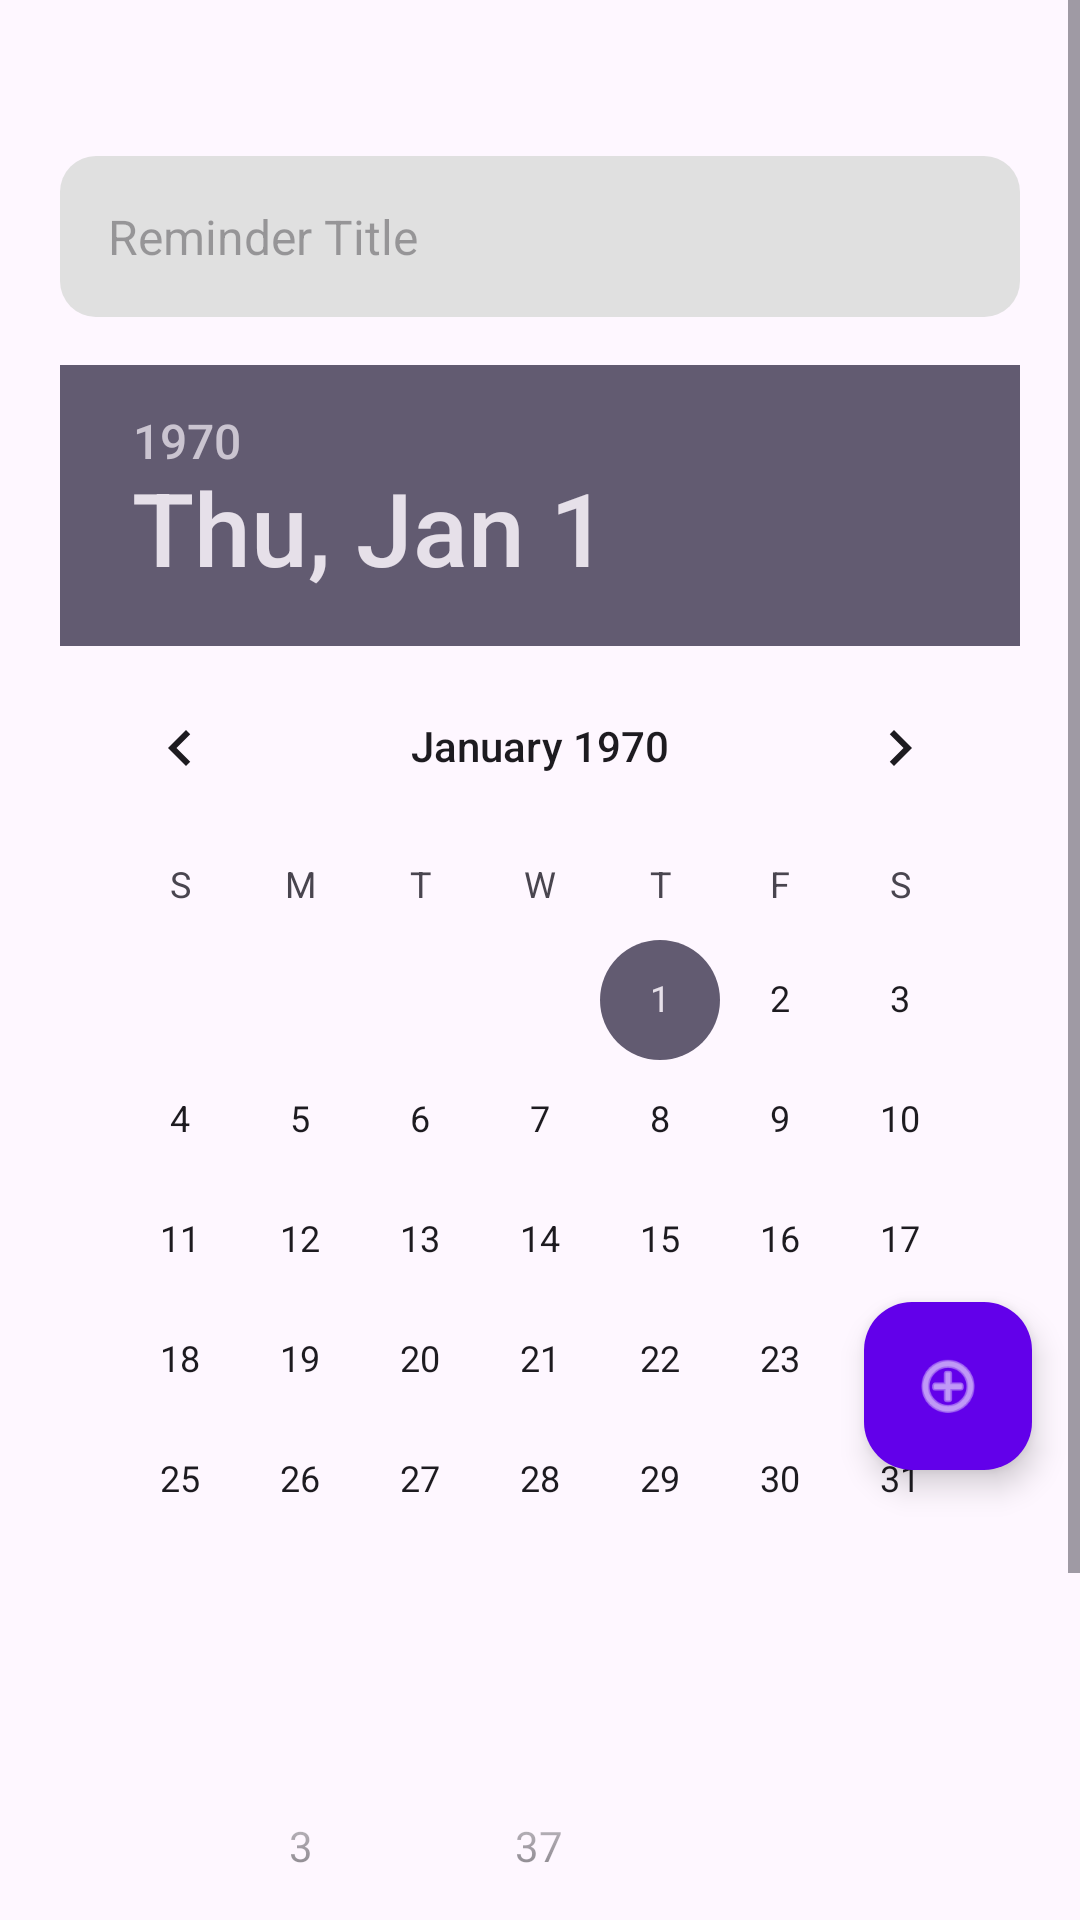

Where icons sit on this 1080x1920 app screen, as (x1, y1, x2, y2):
add: (864, 1302, 1032, 1470)
